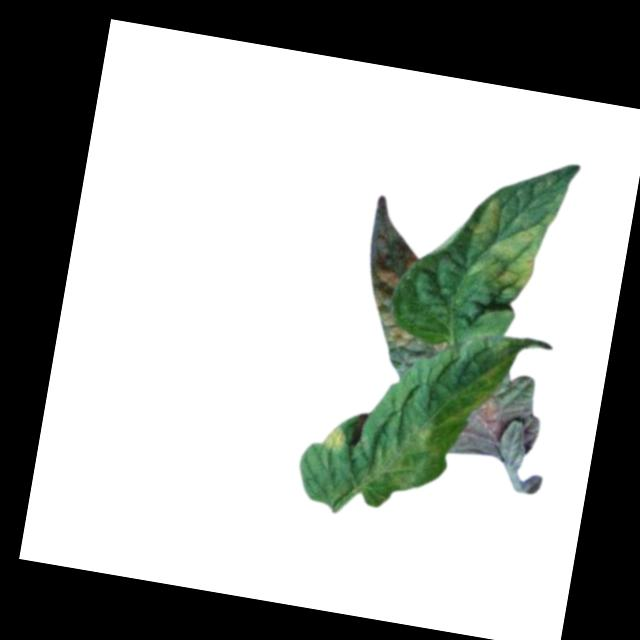Leaf_Mold: (461, 186, 560, 301), (447, 367, 546, 468), (357, 197, 426, 325), (366, 321, 448, 385), (322, 421, 348, 454)
